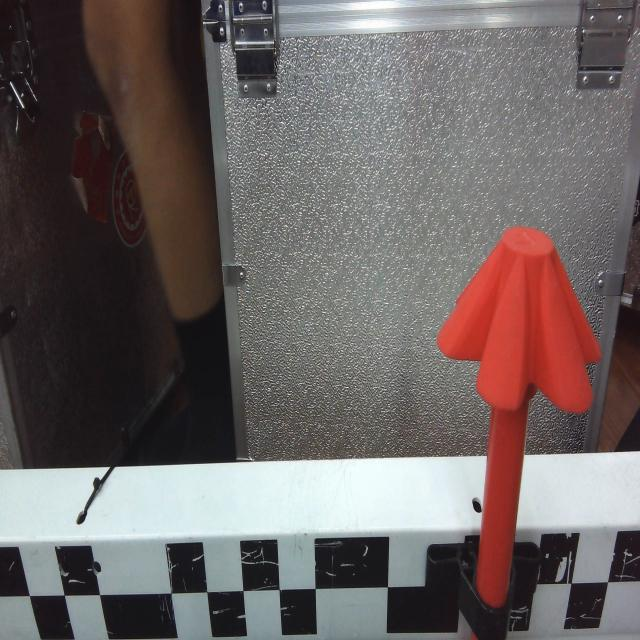zred-Stake-Head: (437, 225, 602, 413)
